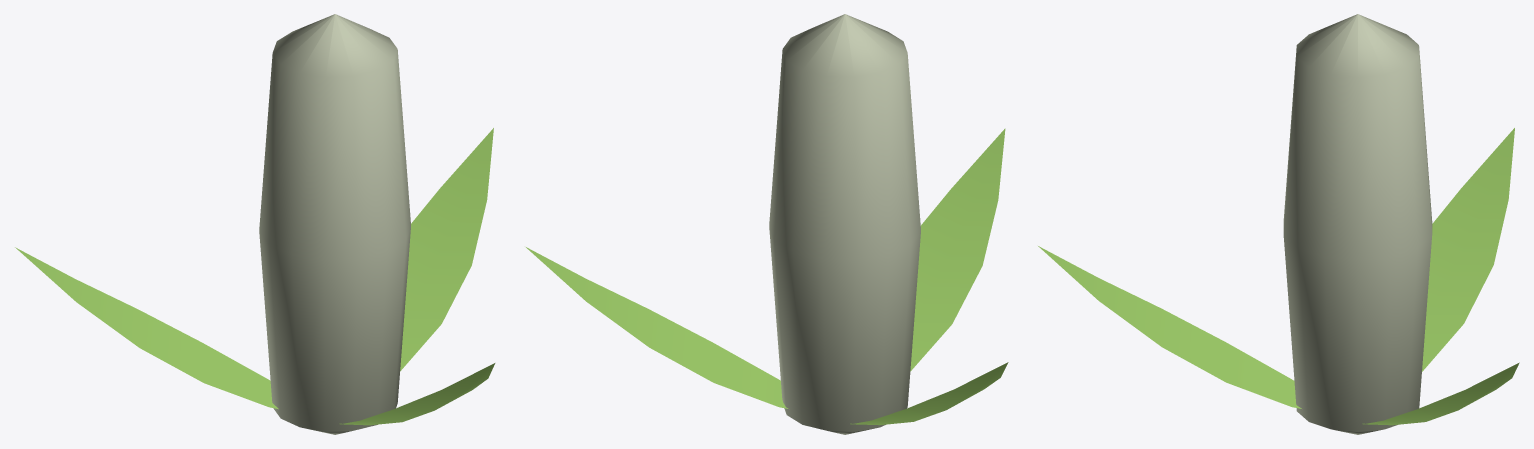
The model's file is fruit-corn-chilled.gltf.
3 renders of one model, left to right at view 1: azimuth 30°, elevation 25°; view 2: azimuth 150°, elevation 25°; view 3: azimuth 270°, elevation 25°, orthographic.
Size of the model in its own units: 0.6146 by 0.513 by 0.5332.
